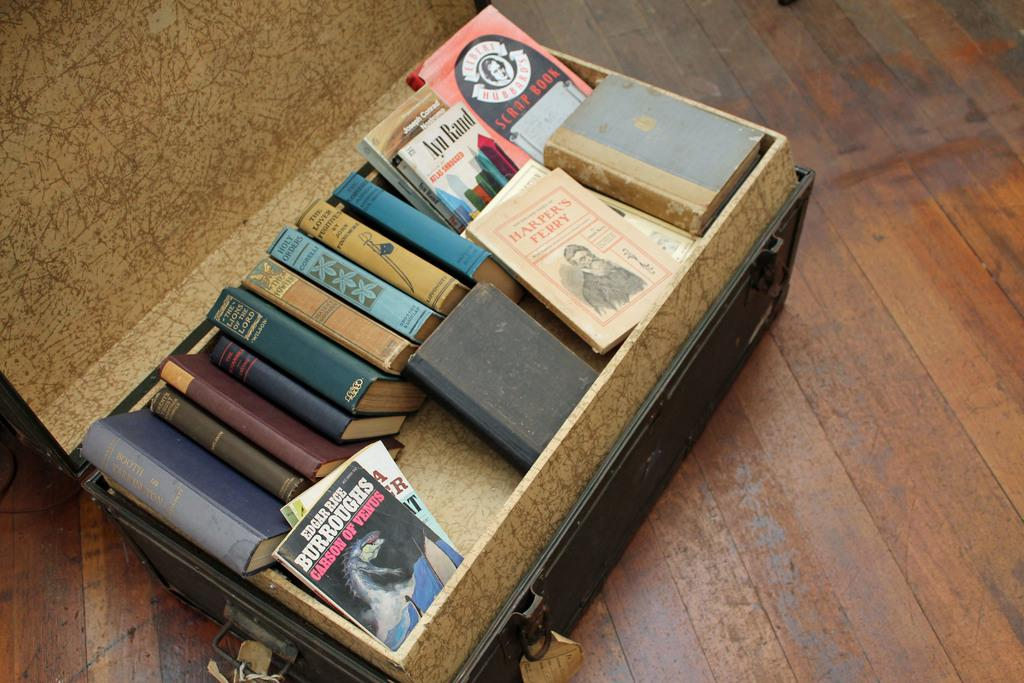Book: (63, 0, 765, 662)
